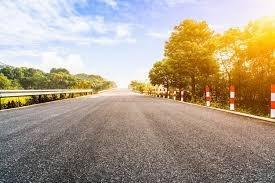road: (0, 89, 274, 182)
